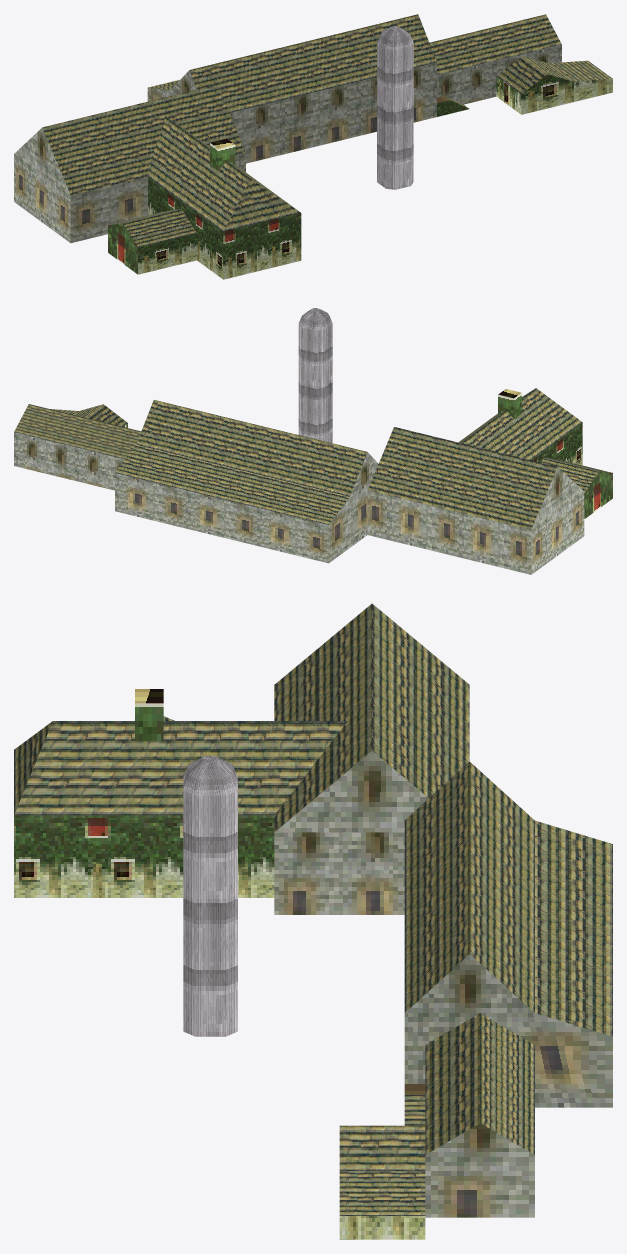
File: uvmd-0058.glb
The picture shows the model from 3 angles, top to bottom: view 1: azimuth 30°, elevation 25°; view 2: azimuth 150°, elevation 25°; view 3: azimuth 270°, elevation 25°; orthographic projection. The views are drawn at different scales.
Parts seen in each view (by area): view 1: uvmd-0058; view 2: uvmd-0058; view 3: uvmd-0058.
Part boxes in pixels (x1,y1,x2,y2): uvmd-0058: (14, 14, 612, 279); uvmd-0058: (14, 308, 612, 574); uvmd-0058: (14, 603, 612, 1239).
Size of the model in its own units: 858 by 225 by 460.
Materials: 4 (4 with a texture image).
